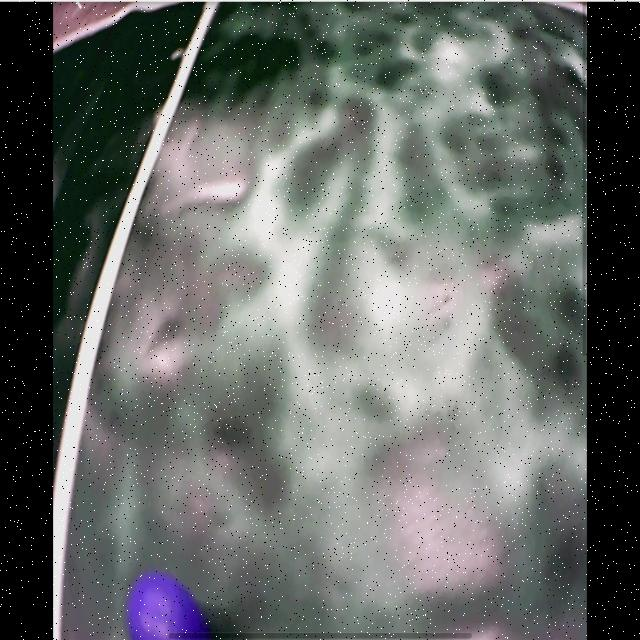ball: (125, 574, 202, 640)
